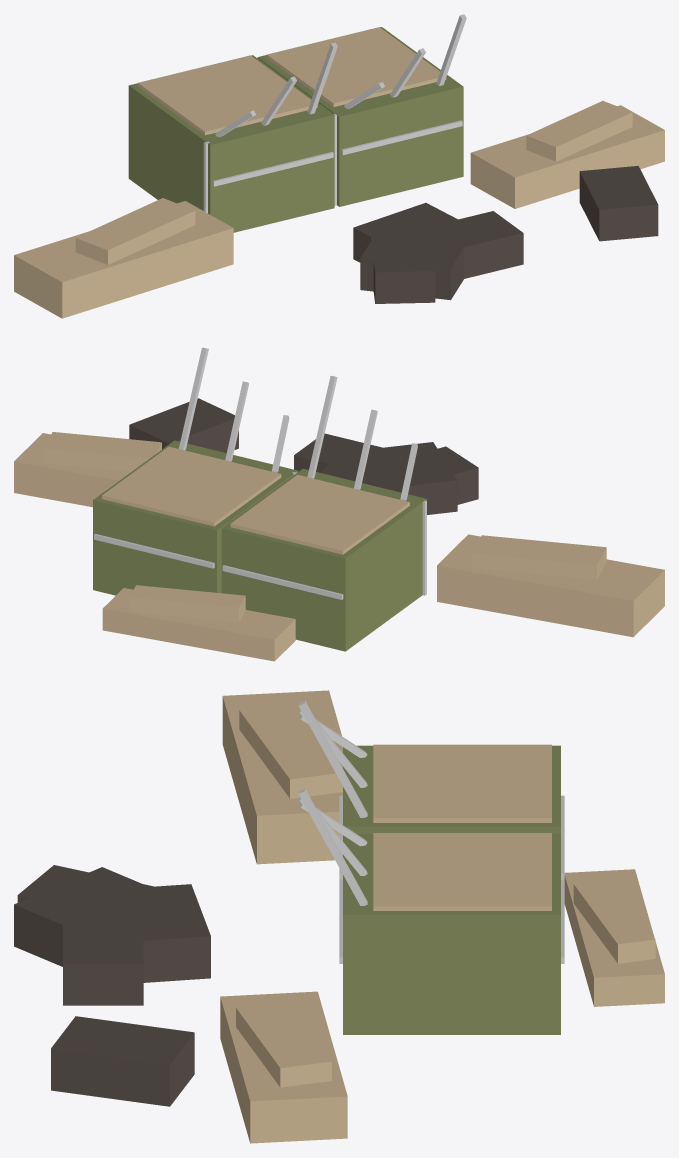
Rendered from SM_HescoCorto2_v0_MallaLimpia_e2_MuyDanado_LOD0.fbx.
3 views of the same model, one above another, from view 1: azimuth 30°, elevation 25°; view 2: azimuth 150°, elevation 25°; view 3: azimuth 270°, elevation 25° (orthographic). The views are drawn at different scales.
Parts seen in each view (by area): view 1: SM_hesco_piezas_v62_LOD0; view 2: SM_hesco_piezas_v62_LOD0; view 3: SM_hesco_piezas_v62_LOD0.
Part boxes in pixels (box(x1,y1,x2,y2)): SM_hesco_piezas_v62_LOD0: box(14, 14, 664, 318); SM_hesco_piezas_v62_LOD0: box(14, 347, 664, 661); SM_hesco_piezas_v62_LOD0: box(14, 690, 664, 1143).
Size of the model in its own units: 5.36 by 1.48 by 3.64.
